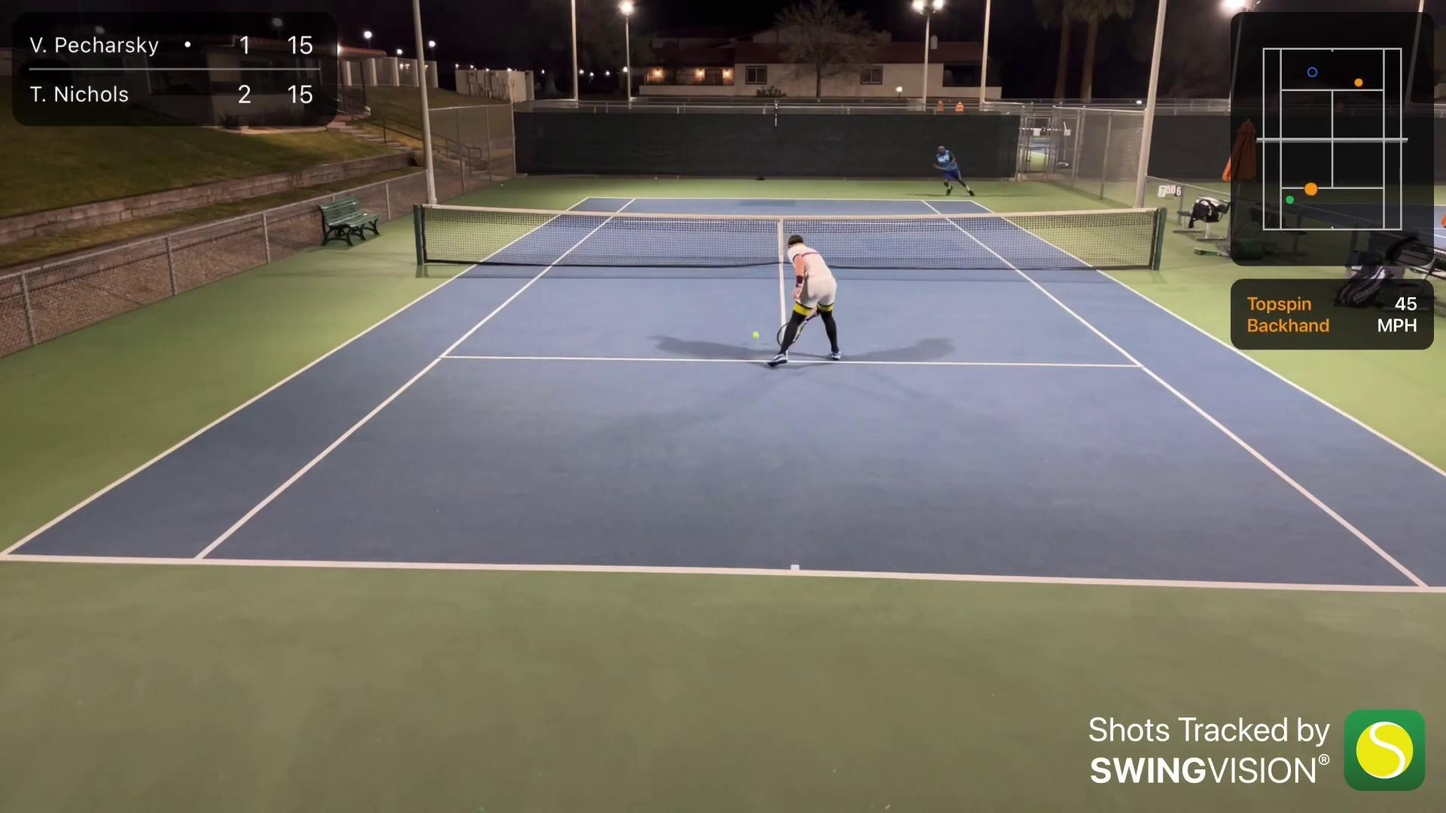ball: (749, 329, 763, 341)
